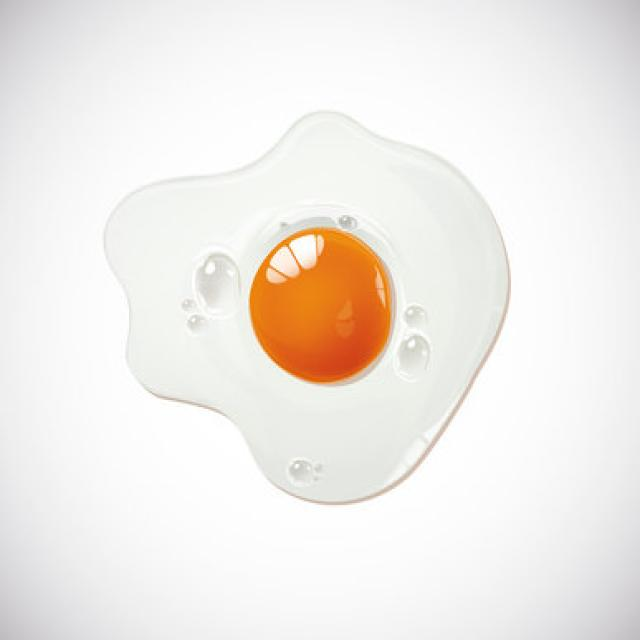Egg: (105, 113, 509, 502)
